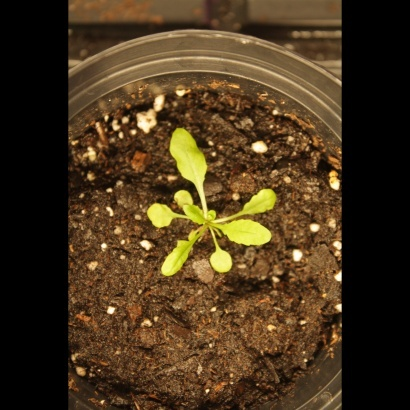leaf: (164, 125, 215, 189), (219, 217, 281, 254), (159, 236, 196, 280), (239, 186, 282, 222), (143, 202, 177, 235), (208, 246, 238, 275), (181, 204, 212, 227), (172, 187, 195, 210)
